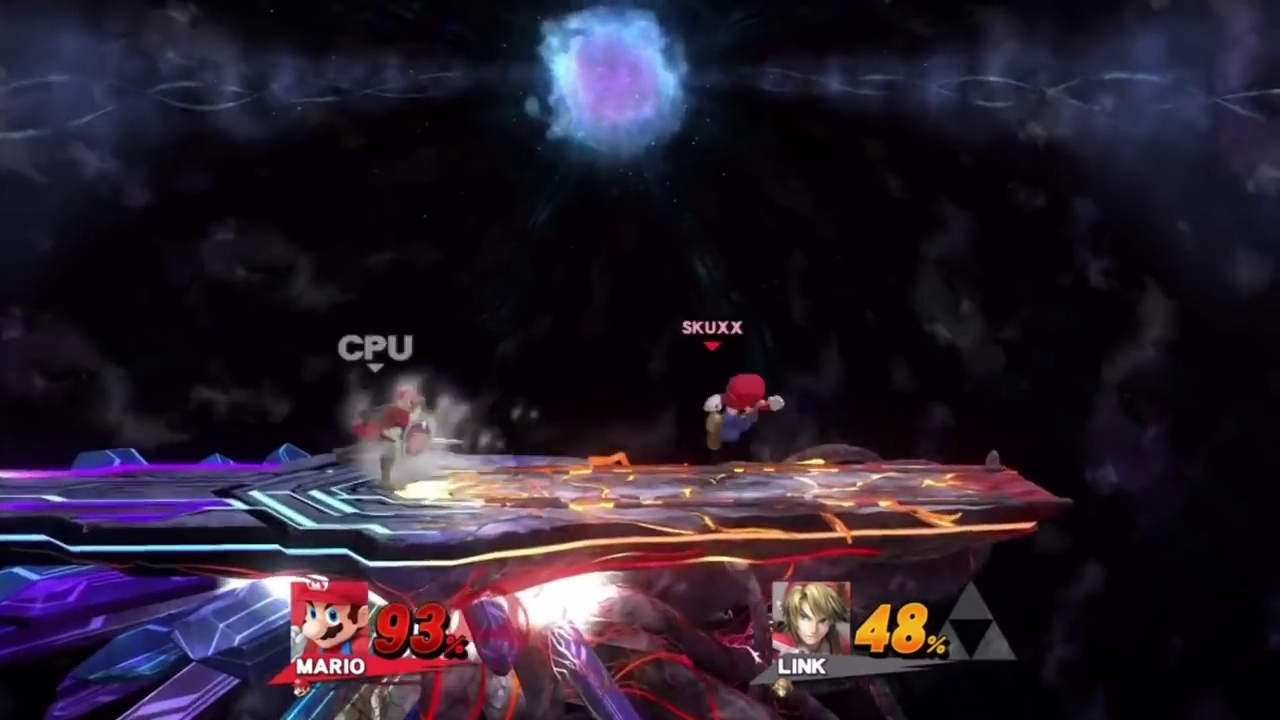Mario: (703, 376, 784, 446)
